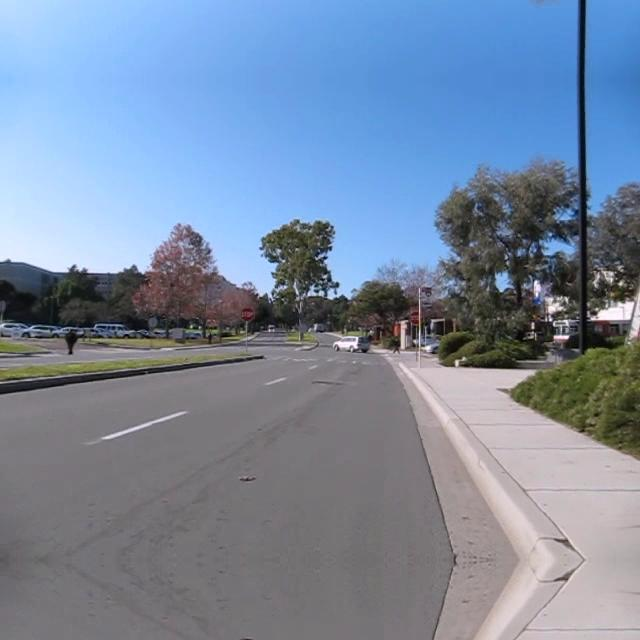stop: (239, 306, 255, 322), (408, 310, 424, 324)
